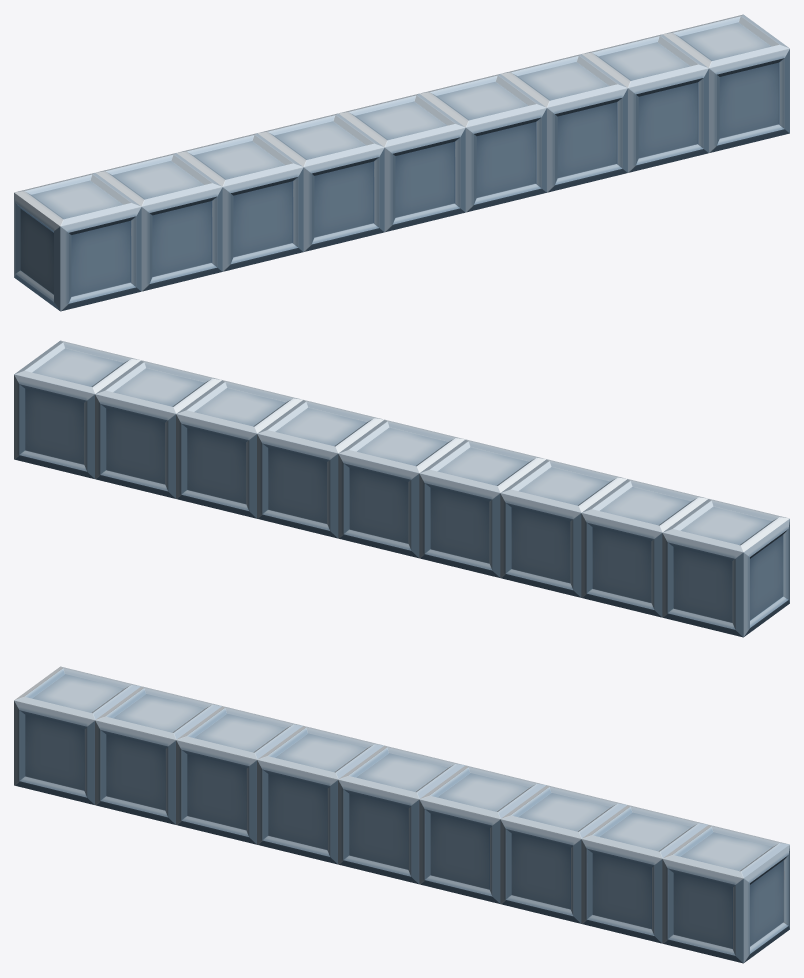
File: PrototypeI9.fbx
The picture shows the model from 3 angles, top to bottom: view 1: azimuth 30°, elevation 25°; view 2: azimuth 150°, elevation 25°; view 3: azimuth 330°, elevation 25°; orthographic projection.
Parts seen in each view (by area): view 1: polySurface1; view 2: polySurface1; view 3: polySurface1.
Boxes of the visible parts, x1,y1,x2,y2 form: polySurface1: (14,14,789,311); polySurface1: (14,340,789,637); polySurface1: (14,666,789,963).
Bounding box in the file's own units: 7.88 × 0.9244 × 0.9147.
1 material, 1 textured.
